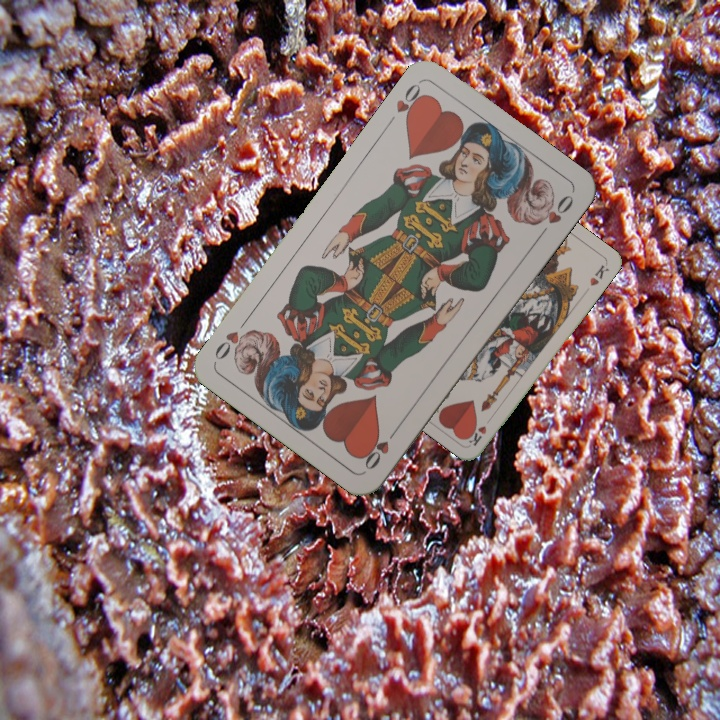HK: (464, 422, 489, 449)
HO: (360, 422, 402, 473), (391, 79, 429, 126)
